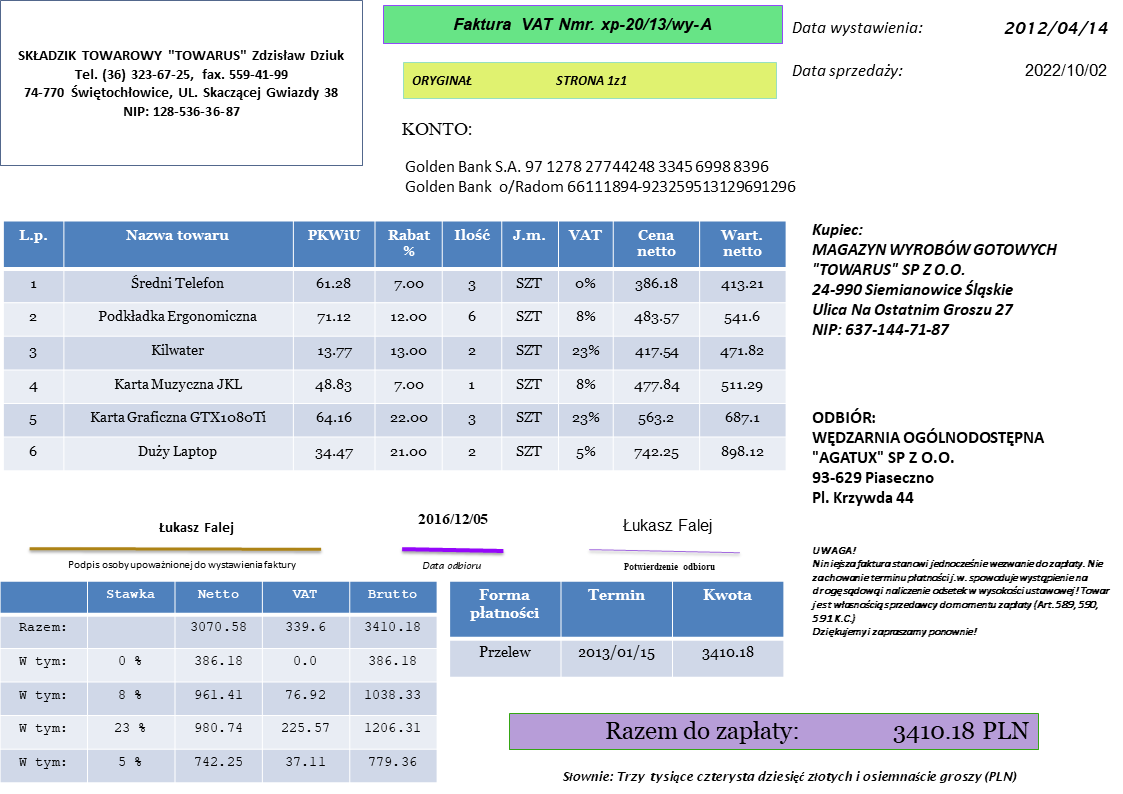Table: (2, 220, 787, 472), (1, 582, 437, 782), (448, 579, 786, 678)
TextBox: (810, 220, 1060, 337), (810, 544, 1112, 638), (16, 46, 348, 120), (811, 406, 1045, 507), (403, 157, 800, 195), (604, 719, 1031, 744), (561, 768, 1021, 784), (449, 13, 714, 36), (65, 557, 298, 573), (409, 72, 629, 88), (791, 17, 925, 37), (791, 61, 906, 81), (1001, 17, 1110, 36), (620, 516, 713, 537), (1023, 61, 1110, 79), (415, 509, 489, 529), (156, 519, 236, 537), (401, 119, 473, 137), (622, 560, 716, 572), (420, 558, 483, 573)
